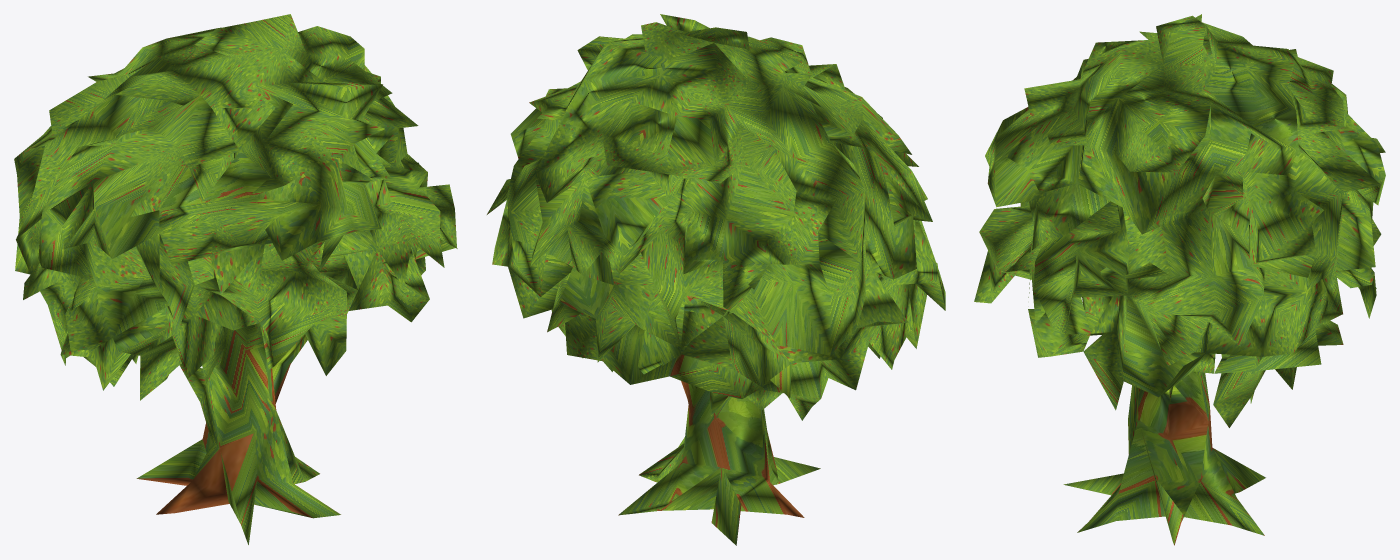
Rendered from leafy-tree.glb.
The picture shows the model from 3 angles, left to right: view 1: azimuth 30°, elevation 25°; view 2: azimuth 150°, elevation 25°; view 3: azimuth 270°, elevation 25°; orthographic projection. The views are drawn at different scales.
Bounding box in the file's own units: 1.69 × 1.86 × 1.45.
Materials: 1 (1 with a texture image).
